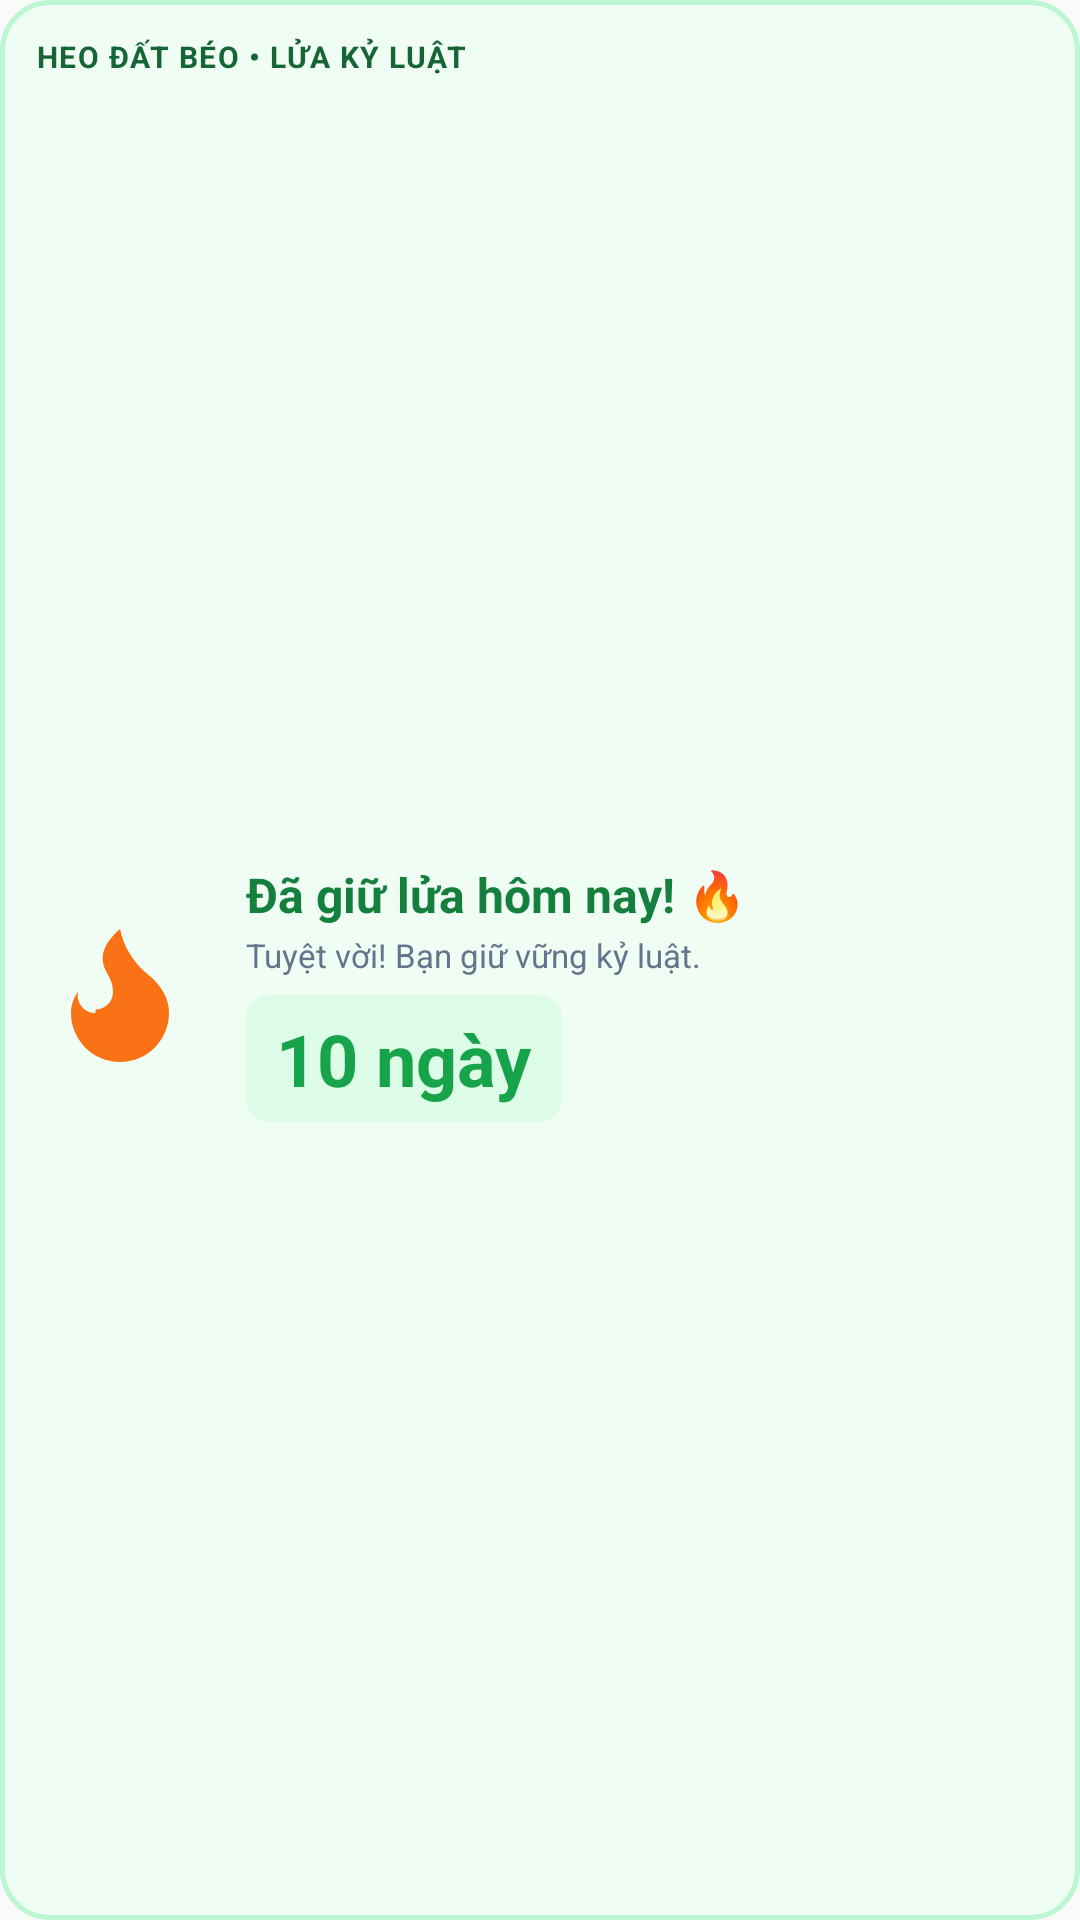

Icons on this 1080px×1920px Android screen, each with its box as [x1=x1, y1=y1, x2=x2, y2=y2]:
Active Flame: [x1=71, y1=929, x2=169, y2=1062]
